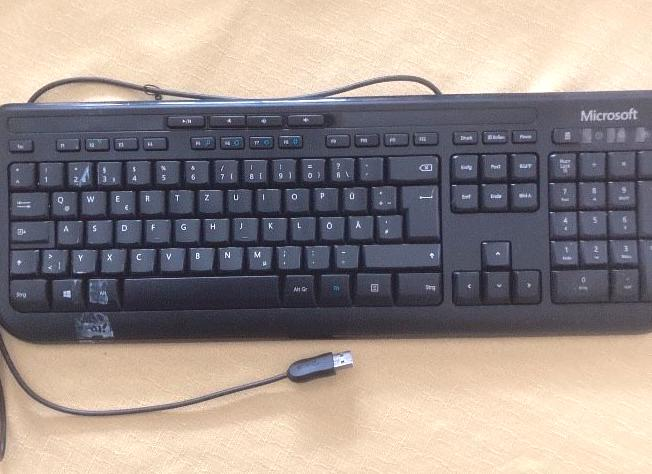0: (298, 155, 323, 181)
1: (36, 159, 61, 185)
2: (65, 159, 89, 184)
3: (93, 158, 118, 184)
4: (123, 157, 148, 182)
5: (152, 157, 177, 182)
6: (182, 158, 207, 182)
7: (212, 157, 235, 182)
8: (240, 157, 265, 181)
9: (270, 156, 293, 180)
a: (55, 217, 79, 243)
accent: (356, 154, 380, 179)
ae: (346, 212, 371, 238)
alt-left: (84, 275, 117, 305)
altgr-right: (281, 272, 313, 305)
b: (186, 244, 212, 268)
c: (127, 245, 153, 270)
caret: (6, 160, 31, 185)
comma: (274, 242, 298, 267)
d: (113, 217, 138, 242)
del: (386, 152, 438, 179)
e: (107, 187, 132, 213)
enter: (399, 182, 438, 237)
f: (143, 216, 167, 241)
g: (172, 215, 197, 240)
h: (202, 215, 227, 240)
hash: (375, 212, 400, 238)
i: (254, 185, 279, 210)
j: (231, 214, 255, 240)
k: (260, 214, 284, 239)
keyboard: (1, 92, 652, 333)
l: (288, 214, 313, 239)
less: (39, 246, 65, 272)
m: (245, 243, 269, 268)
minus: (332, 242, 356, 266)
n: (216, 243, 240, 268)
o: (282, 185, 307, 210)
oe: (317, 213, 342, 239)
p: (311, 184, 336, 209)
plus: (369, 182, 394, 208)
point: (303, 242, 327, 267)
q: (48, 188, 74, 214)
r: (137, 187, 161, 212)
s: (84, 217, 109, 243)
shift-left: (8, 247, 36, 273)
shift-lock: (8, 218, 51, 241)
shift-right: (362, 241, 438, 266)
space: (120, 273, 277, 309)
ss: (327, 155, 352, 180)
strg-left: (6, 276, 46, 310)
strg-right: (395, 269, 442, 304)
t: (166, 186, 191, 212)
tab: (8, 189, 45, 215)
u: (225, 186, 249, 211)
ue: (340, 183, 364, 210)
v: (157, 244, 182, 269)
w: (78, 187, 103, 213)
x: (98, 246, 123, 270)
y: (69, 246, 94, 271)
z: (196, 186, 221, 211)
